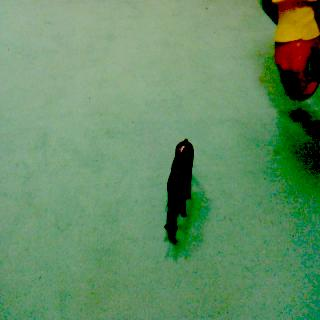horse: (159, 137, 202, 248)
